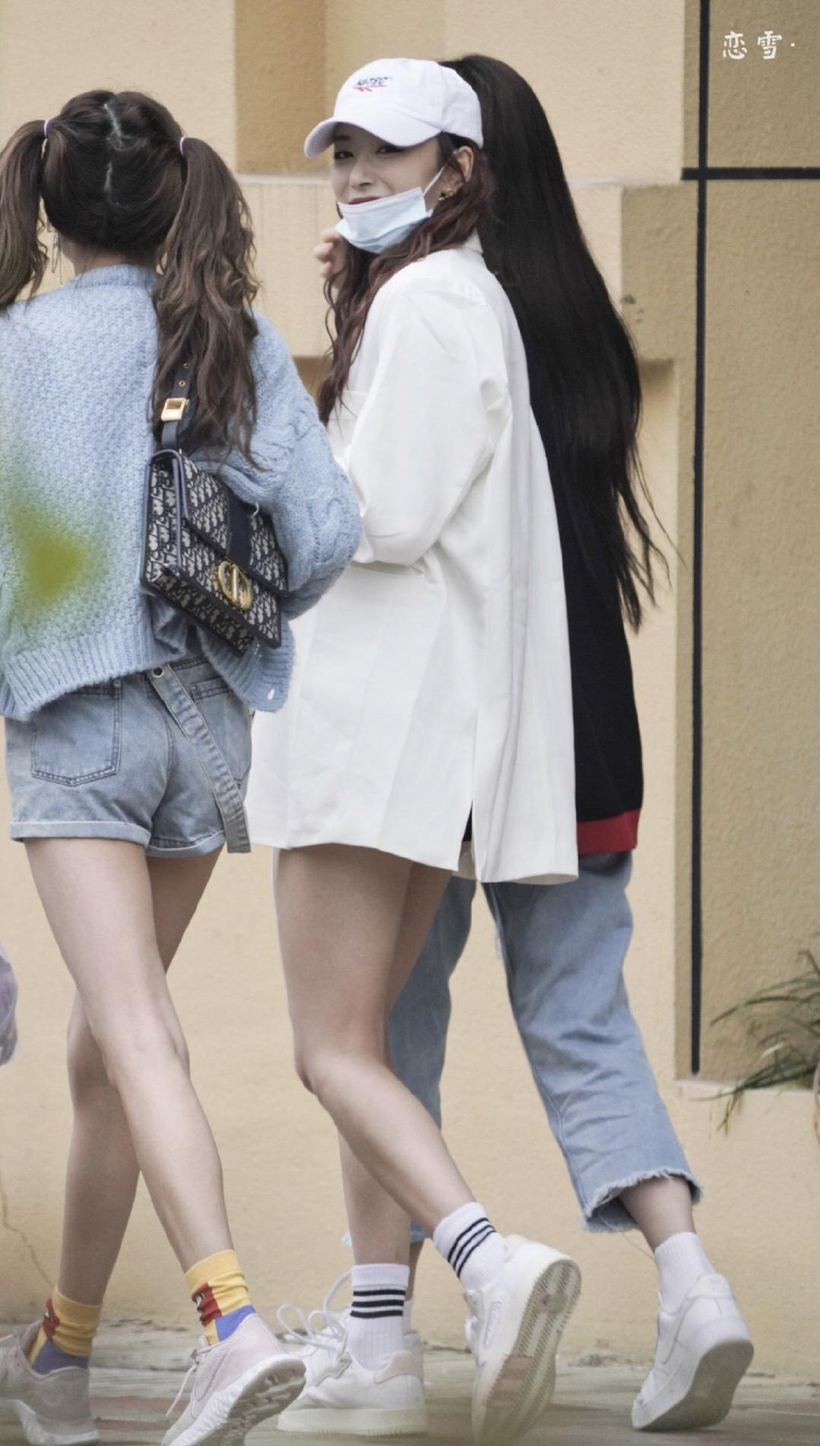WRONG: (331, 129, 427, 249)
